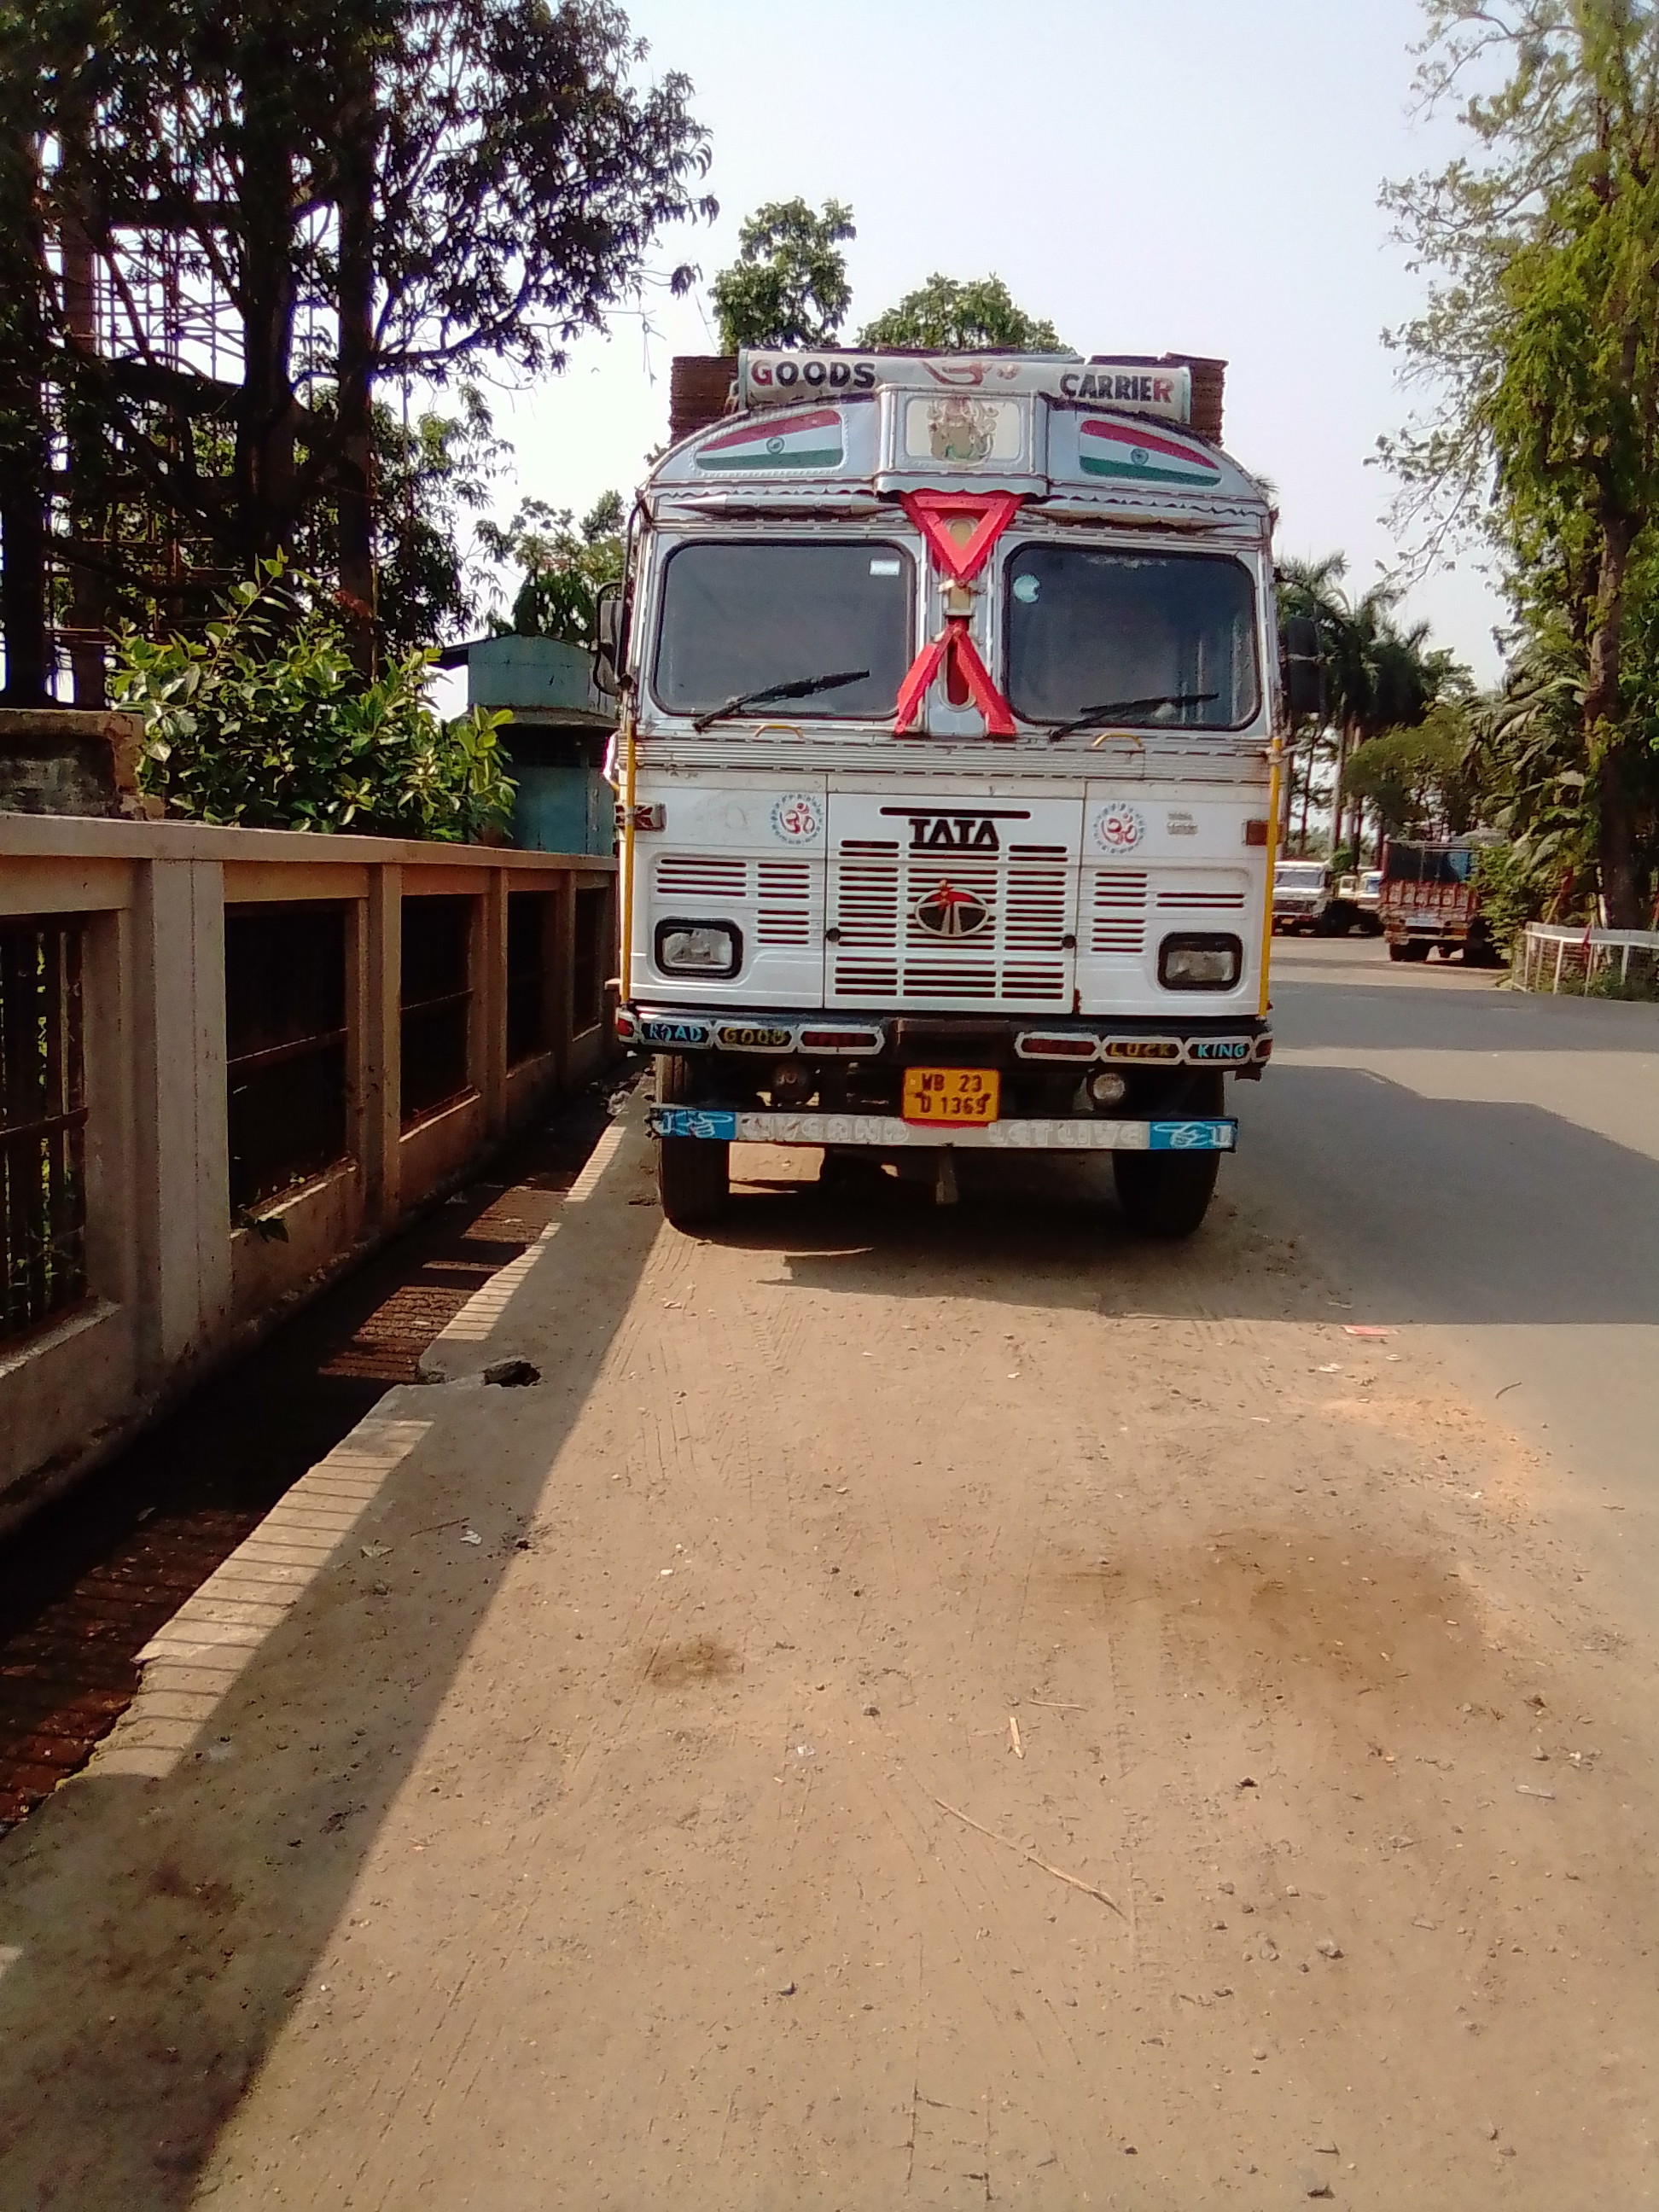truck: (587, 334, 1330, 1249), (1377, 826, 1509, 967), (1269, 855, 1378, 937)
